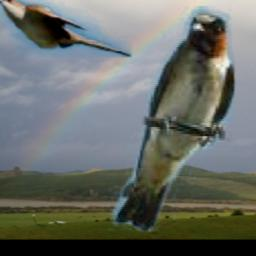Cuckoo: (0, 0, 133, 57)
Swallow: (109, 6, 236, 231)
